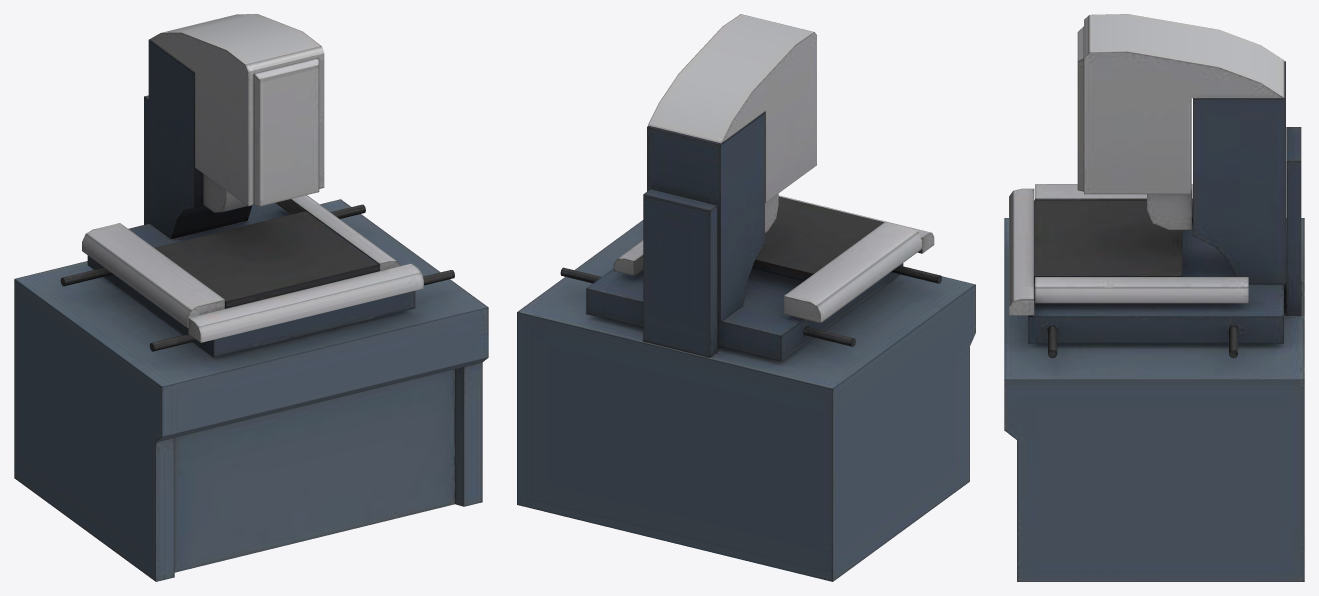
The picture shows the model from 3 angles, left to right: view 1: azimuth 30°, elevation 25°; view 2: azimuth 150°, elevation 25°; view 3: azimuth 270°, elevation 25°; orthographic projection. The views are drawn at different scales.
Parts seen in each view (by area): view 1: zdyxy_0; view 2: zdyxy_0; view 3: zdyxy_0.
Part boxes in pixels (bbox=[...]): zdyxy_0: bbox=[14, 14, 488, 581]; zdyxy_0: bbox=[517, 14, 975, 581]; zdyxy_0: bbox=[1004, 14, 1304, 581].
Size of the model in its own units: 0.3916 by 0.5287 by 0.307.
Materials: 1 (1 with a texture image).
